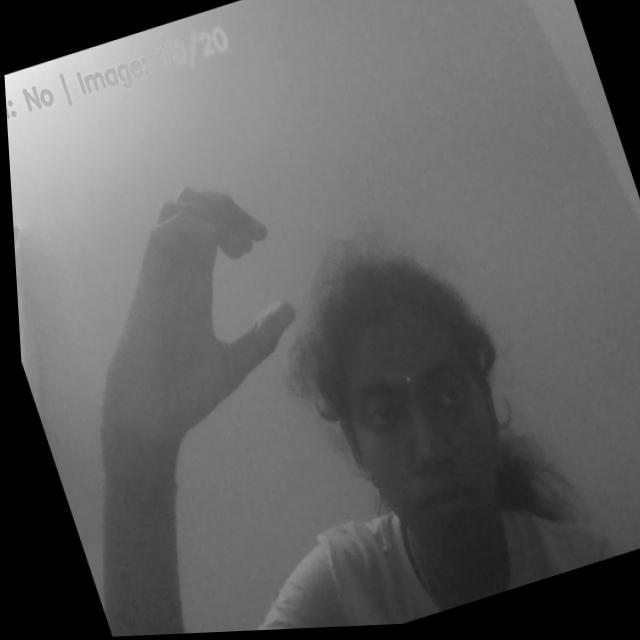No: (46, 157, 325, 453)
